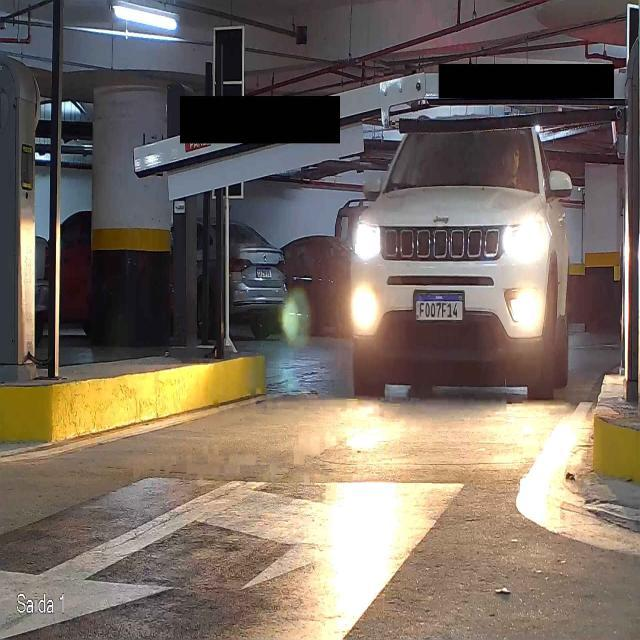mercosul_plate: (414, 293, 465, 323)
